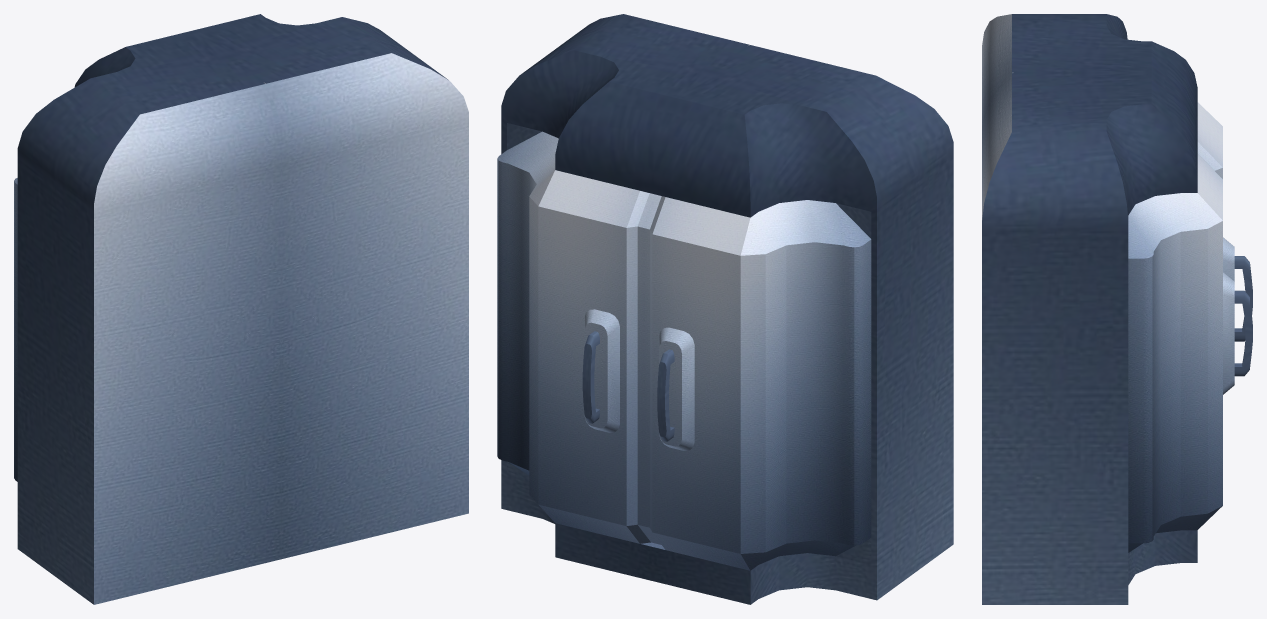
File: ResourceCupboardV1.fbx
3 renders of one model, left to right at view 1: azimuth 30°, elevation 25°; view 2: azimuth 150°, elevation 25°; view 3: azimuth 270°, elevation 25°, orthographic. The views are drawn at different scales.
Visible parts, largest first — view 1: Cube.001, Cube.002; view 2: Cube.002, Cube.001; view 3: Cube.001, Cube.002.
Boxes of the visible parts, bbox=[...] form: Cube.001: bbox=[17, 14, 468, 604]; Cube.002: bbox=[14, 178, 17, 481]; Cube.002: bbox=[497, 131, 871, 570]; Cube.001: bbox=[501, 14, 953, 604]; Cube.001: bbox=[982, 14, 1252, 604]; Cube.002: bbox=[1128, 102, 1234, 552].
Bounding box in the file's own units: 51.35 × 60.74 × 33.53.
Materials: 1 (1 with a texture image).
